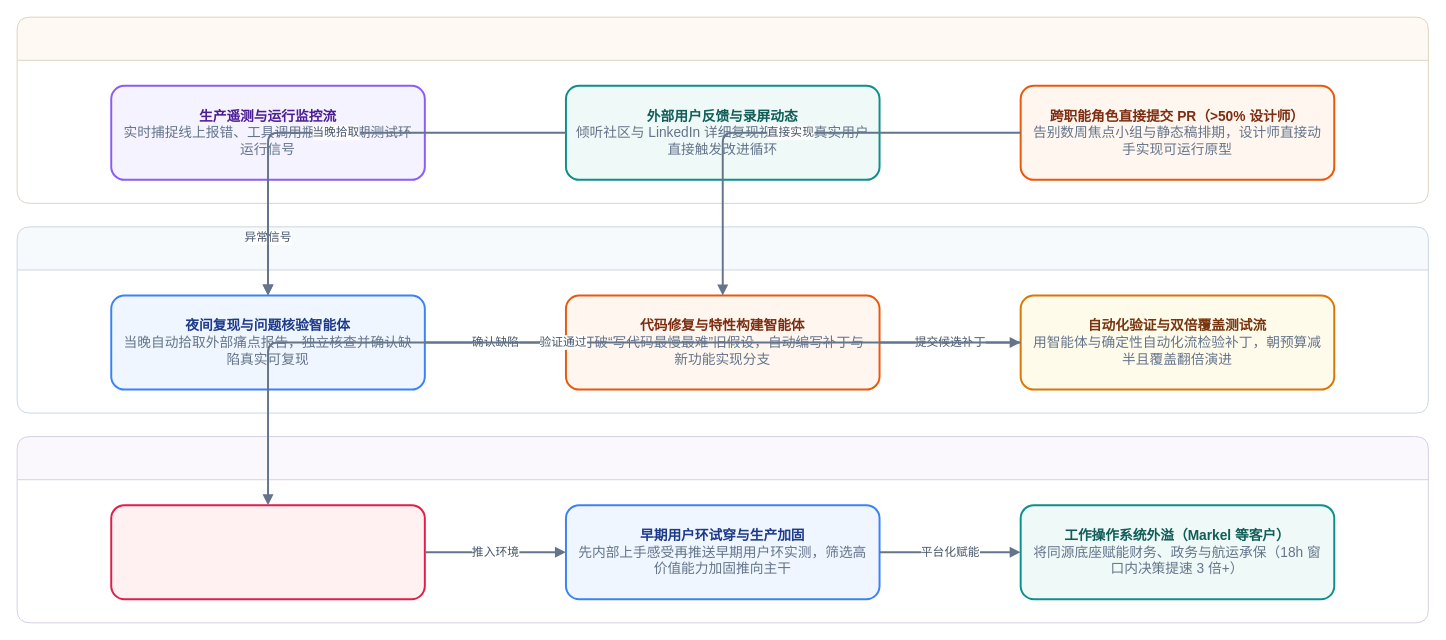
Image size: 1446x640. Some labels were removed from this diagram. The shapes that lost their labels are listed below. From the top down, each one's box as (x1, y1, x2, y2) in pixels, then its label:
(16, 16, 1428, 203): 1. 全天候感知与反馈采集层（Telemetry, User Signals & Direct Prototyping）
(16, 226, 1428, 413): 2. 智能体软件工厂执行层（Dozens of Specialized Agents Running on Copilot Studio）
(16, 436, 1428, 623): 3. 人机门禁合入与生产环外溢层（Human-in-the-Loop Merge & Work OS Platform）
(110, 504, 425, 600): 人在回路晨间合入（24h 闭环回访） 工程师把关架构与合入红线，次晨合并并在 24 小时内通知用户补丁在途
